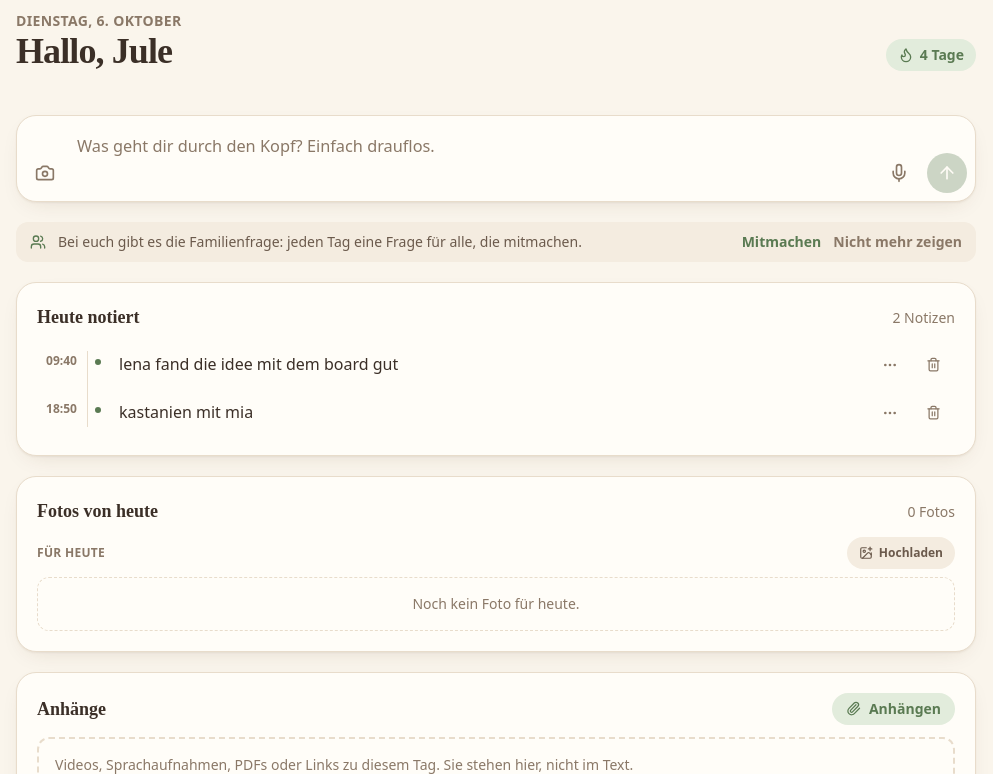
Test: the family question › joins from the hint and shows the card
Step 1. Click the button "Mitmachen" → (782, 242), box [742, 232, 821, 252]
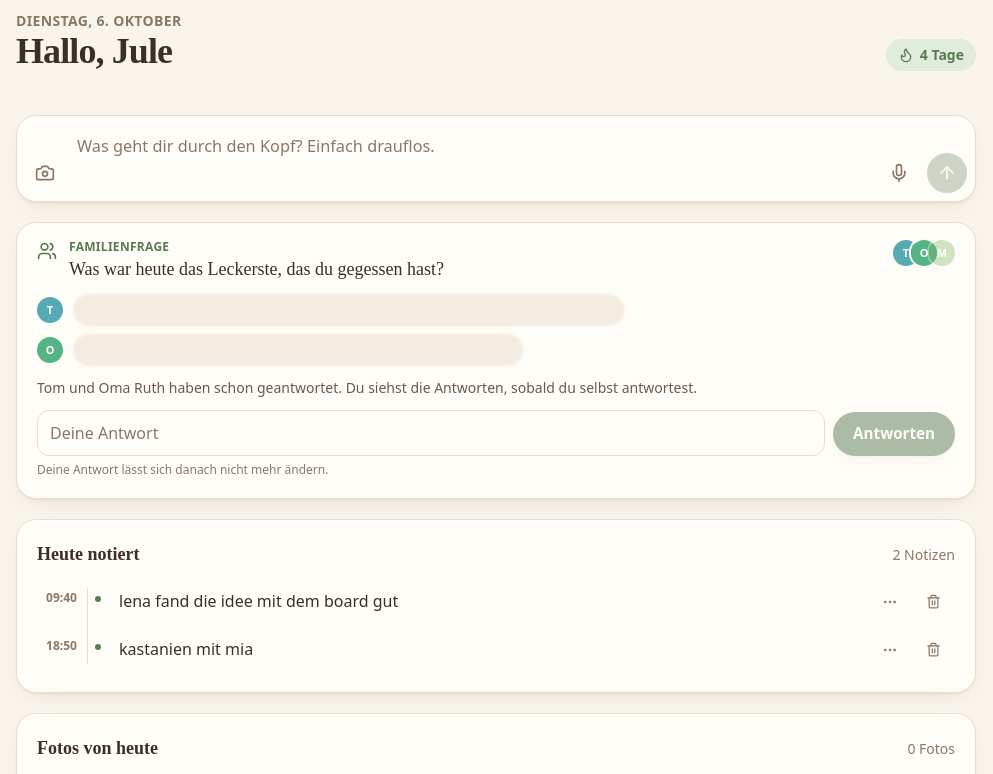
Now the element named "Familienfrage" is shown, box [16, 222, 976, 499]
